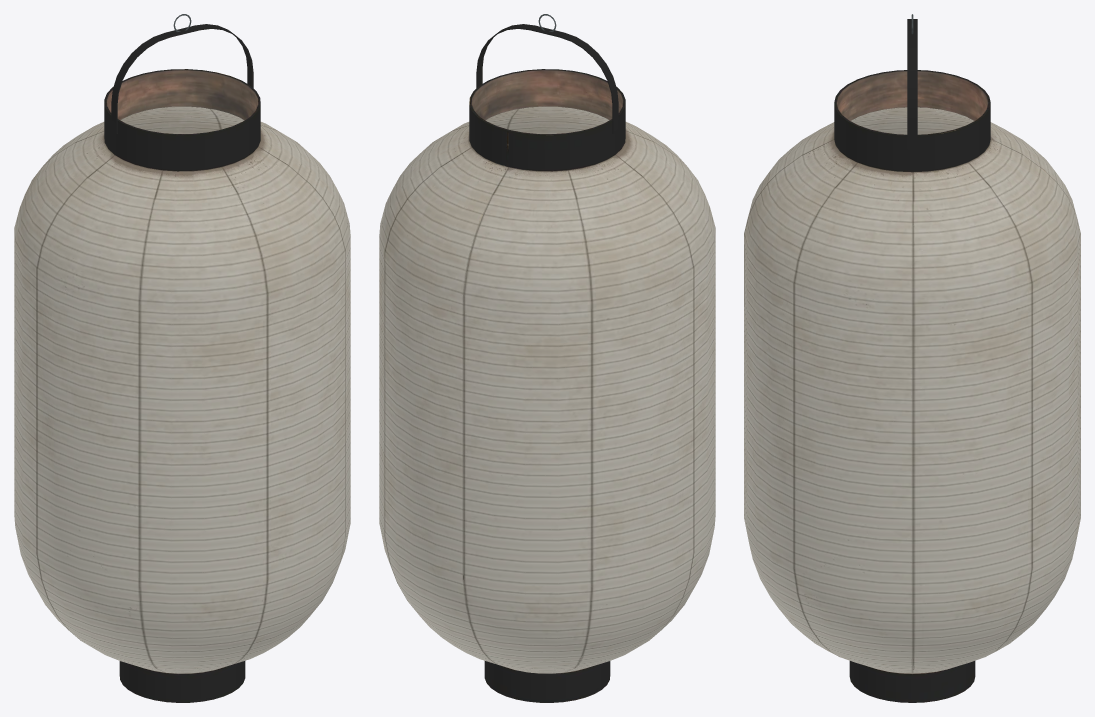
File: paper-lantern-blank.glb
3 renders of one model, left to right at view 1: azimuth 30°, elevation 25°; view 2: azimuth 150°, elevation 25°; view 3: azimuth 270°, elevation 25°, orthographic.
Parts seen in each view (by area): view 1: Lantern_01_low_0, Lantern_02_low_1; view 2: Lantern_01_low_0, Lantern_02_low_1; view 3: Lantern_01_low_0, Lantern_02_low_1.
Part boxes in pixels (box(x1,y1,x2,y2)): Lantern_01_low_0: box(14, 69, 350, 702); Lantern_02_low_1: box(111, 24, 253, 133); Lantern_01_low_0: box(379, 69, 715, 702); Lantern_02_low_1: box(476, 24, 618, 133); Lantern_01_low_0: box(744, 70, 1080, 702); Lantern_02_low_1: box(907, 19, 917, 149).
Size of the model in its own units: 0.3 by 0.6499 by 0.3.
Materials: 1 (1 with a texture image).
